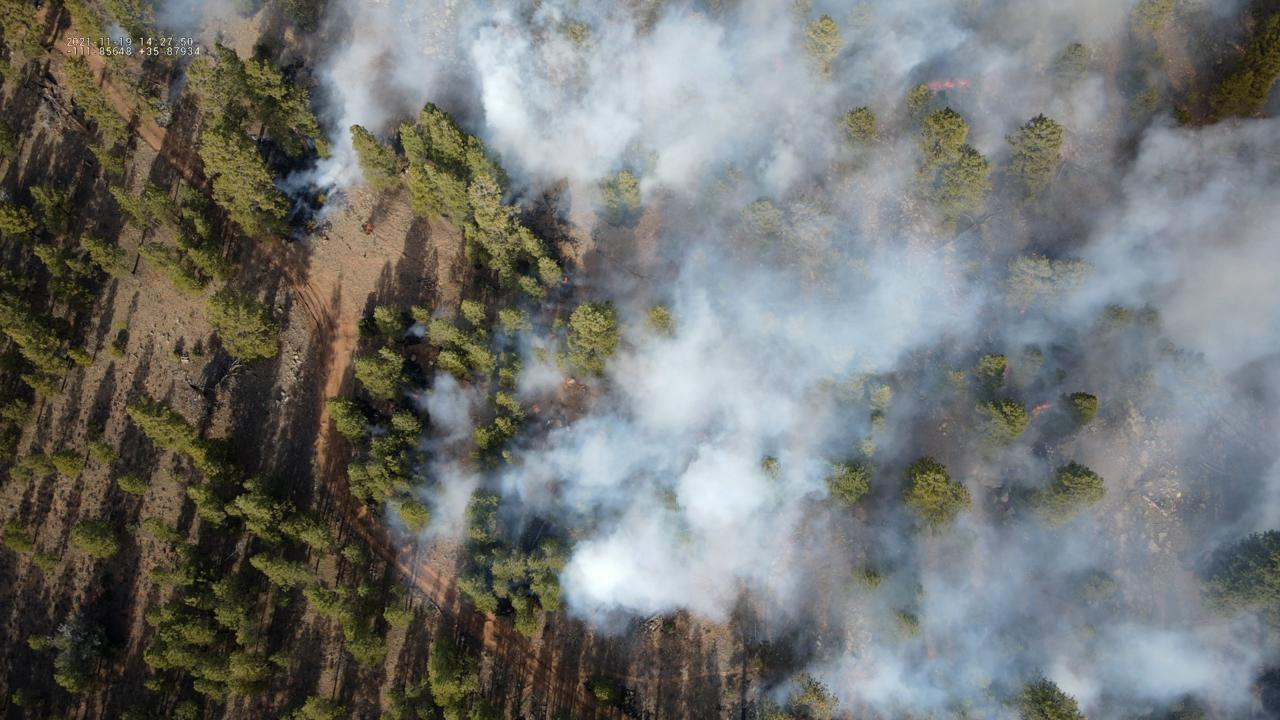fire: (925, 77, 975, 96), (1029, 401, 1060, 420), (532, 405, 542, 414), (561, 276, 568, 286), (366, 222, 373, 231), (411, 393, 419, 400)
smoke: (275, 0, 1280, 720), (107, 0, 253, 98)
